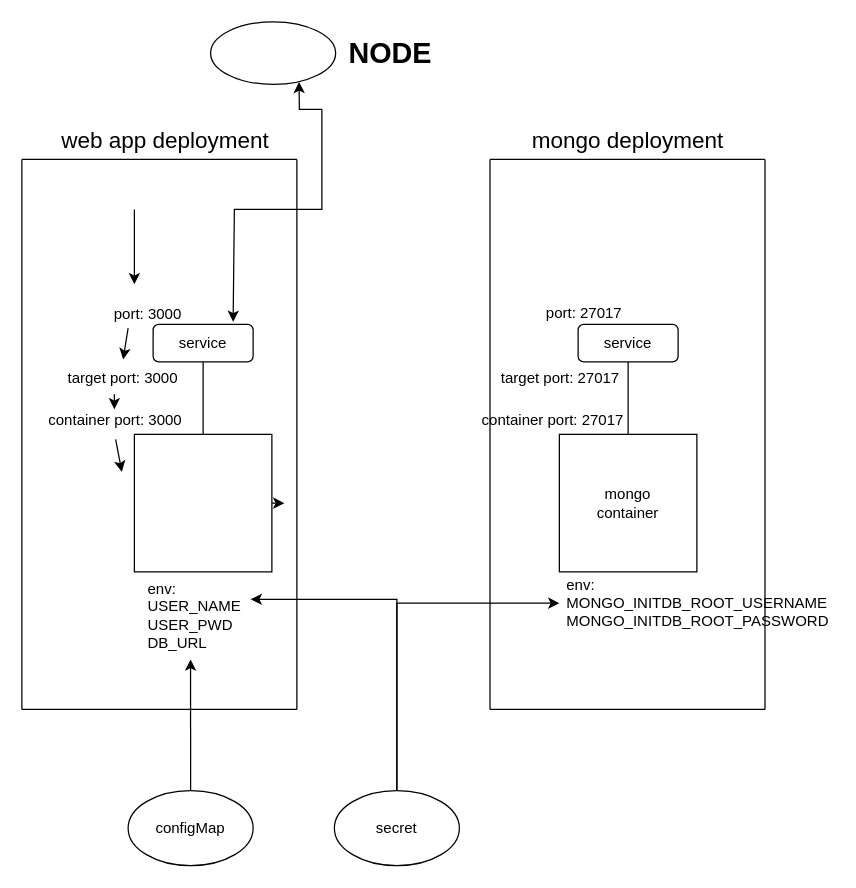
The diagram is 856 pixels wide and 888 high, and some of its shapes have lost their labels. The shapes that lost their labels are listed below. From the top down, each one's centre as x and y in pixels, then its label:
At pixel 272 52: "nodePort:30100".
At pixel 202 502: "webapp container".
